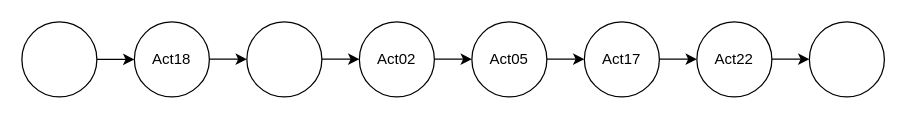
The diagram is 906 pixels wide and 119 high, and some of its shapes have lost their labels. The shapes that lost their labels are listed below. From the top down, each one's centre as x and y in pixels, then its label:
[59,59]: Act24
[284,59]: Act16
[846,59]: Act13
